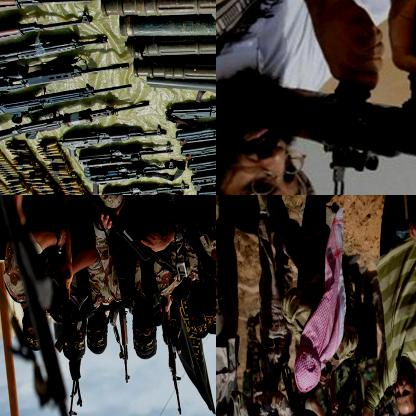rifle: (278, 12, 415, 194), (76, 195, 184, 280), (0, 102, 150, 152), (46, 240, 86, 406), (0, 83, 132, 127), (0, 63, 128, 98), (0, 37, 107, 71), (58, 126, 164, 160), (156, 300, 186, 415), (75, 144, 175, 176), (0, 15, 92, 43), (105, 292, 132, 382), (87, 166, 172, 194), (0, 0, 94, 21), (281, 372, 322, 415), (162, 100, 215, 120), (96, 183, 187, 194), (321, 380, 349, 415), (185, 162, 215, 189), (186, 148, 215, 172), (173, 121, 215, 135), (176, 142, 215, 153)
